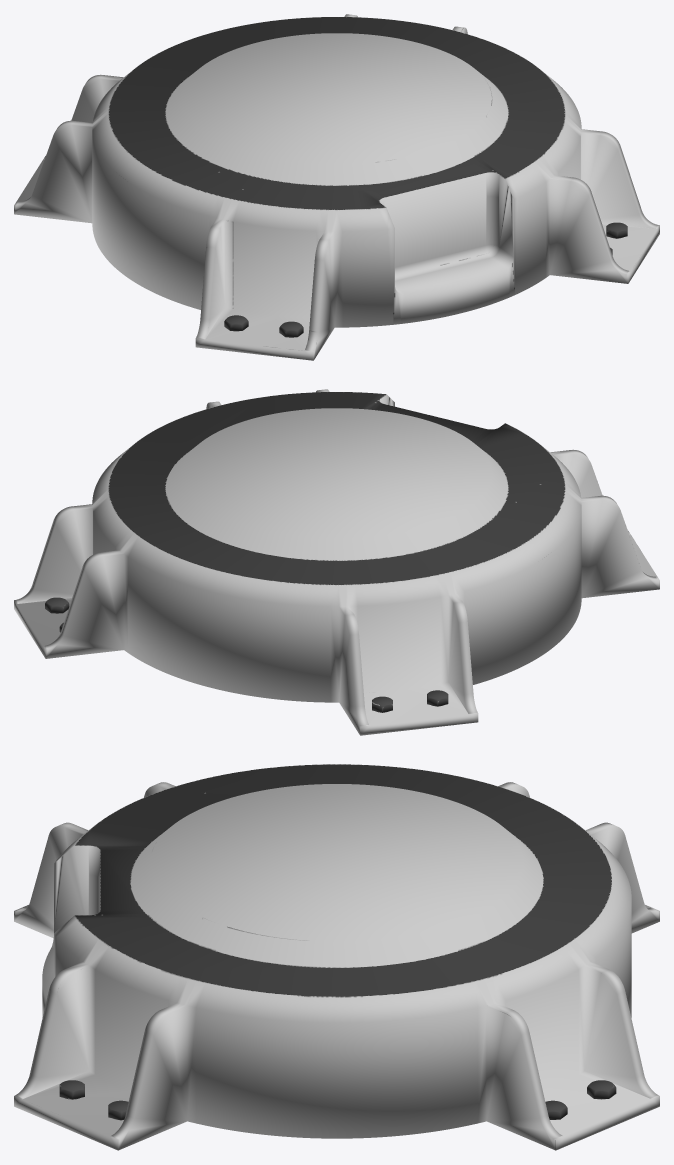
Rendered from podstawa.obj.
The picture shows the model from 3 angles, top to bottom: view 1: azimuth 30°, elevation 25°; view 2: azimuth 150°, elevation 25°; view 3: azimuth 270°, elevation 25°; orthographic projection. The views are drawn at different scales.
Visible parts, largest first — view 1: podstawa; view 2: podstawa; view 3: podstawa.
Part boxes in pixels (left/top/right/bottom): podstawa: left=14, top=14, right=659, bottom=360; podstawa: left=14, top=389, right=659, bottom=735; podstawa: left=14, top=764, right=659, bottom=1150.
Bounding box in the file's own units: 8.79 × 2.27 × 8.79.
Materials: 1 (1 with a texture image).
